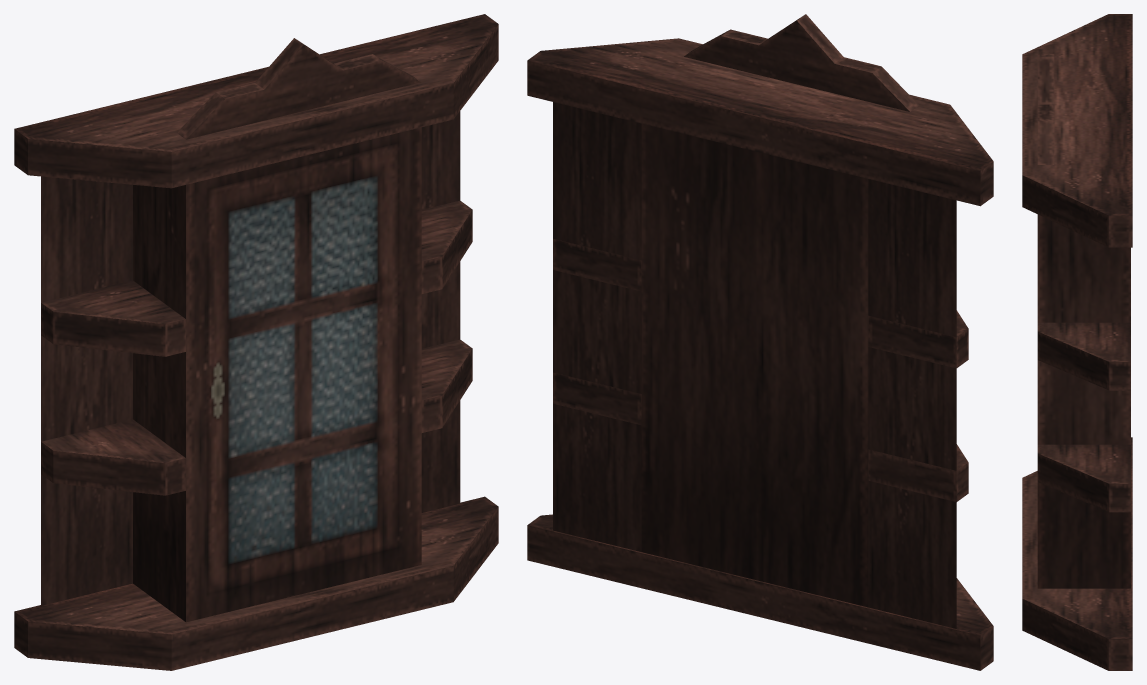
File: Medicine.Cabinet.fbx
3 views of the same model, side by side, from view 1: azimuth 30°, elevation 25°; view 2: azimuth 150°, elevation 25°; view 3: azimuth 270°, elevation 25° (orthographic). The views are drawn at different scales.
Parts seen in each view (by area): view 1: Medicine.Cabinet; view 2: Medicine.Cabinet; view 3: Medicine.Cabinet.
Part boxes in pixels (x1,y1,x2,y2): Medicine.Cabinet: (14,14,498,670); Medicine.Cabinet: (527,14,993,670); Medicine.Cabinet: (1022,14,1132,670).
Size of the model in its own units: 91.95 by 109 by 21.32.
